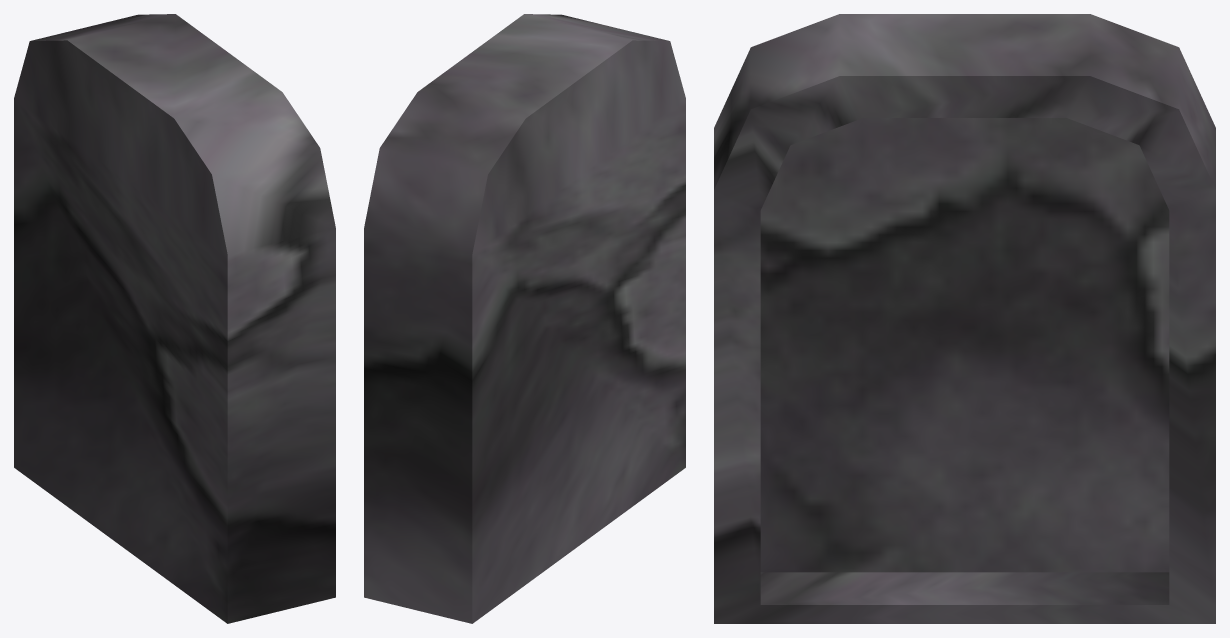
File: entradacueva.fbx
3 renders of one model, left to right at view 1: azimuth 30°, elevation 25°; view 2: azimuth 150°, elevation 25°; view 3: azimuth 270°, elevation 25°, orthographic. The views are drawn at different scales.
Visible parts, largest first — view 1: entradaCueva; view 2: entradaCueva; view 3: entradaCueva.
Part boxes in pixels (x1,y1,x2,y2): entradaCueva: (14,14,335,623); entradaCueva: (364,14,685,623); entradaCueva: (714,14,1215,623).
Bounding box in the file's own units: 648 × 2668 × 2214.
Materials: 1 (1 with a texture image).
